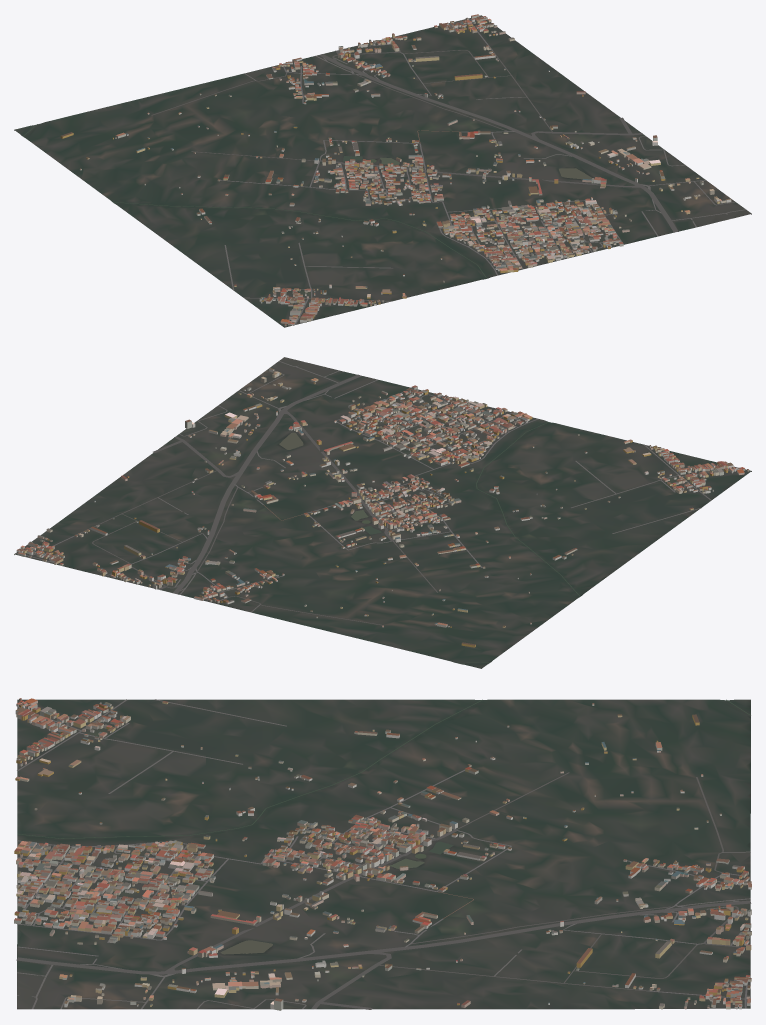
3 renders of one model, top to bottom at view 1: azimuth 30°, elevation 25°; view 2: azimuth 150°, elevation 25°; view 3: azimuth 270°, elevation 25°, orthographic. The views are drawn at different scales.
Parts seen in each view (by area): view 1: ground, buildings, roads, water; view 2: ground, buildings, roads, water; view 3: ground, buildings, roads, water.
Boxes of the visible parts, x1,y1,x2,y2 form: ground: [14, 15, 751, 327]; buildings: [60, 14, 731, 326]; roads: [151, 16, 746, 324]; water: [23, 124, 591, 278]; ground: [14, 357, 751, 668]; buildings: [16, 368, 749, 647]; roads: [16, 361, 723, 625]; water: [279, 422, 580, 663]; ground: [17, 699, 750, 1009]; buildings: [14, 698, 751, 1010]; roads: [16, 699, 751, 1009]; water: [17, 699, 750, 954].
Size of the model in its own units: 1408 by 23.2 by 1410.
